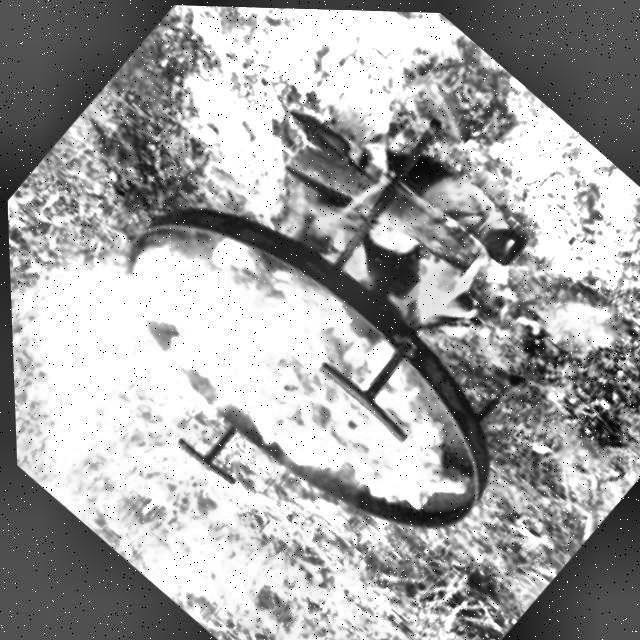Fire: (262, 93, 541, 369)
